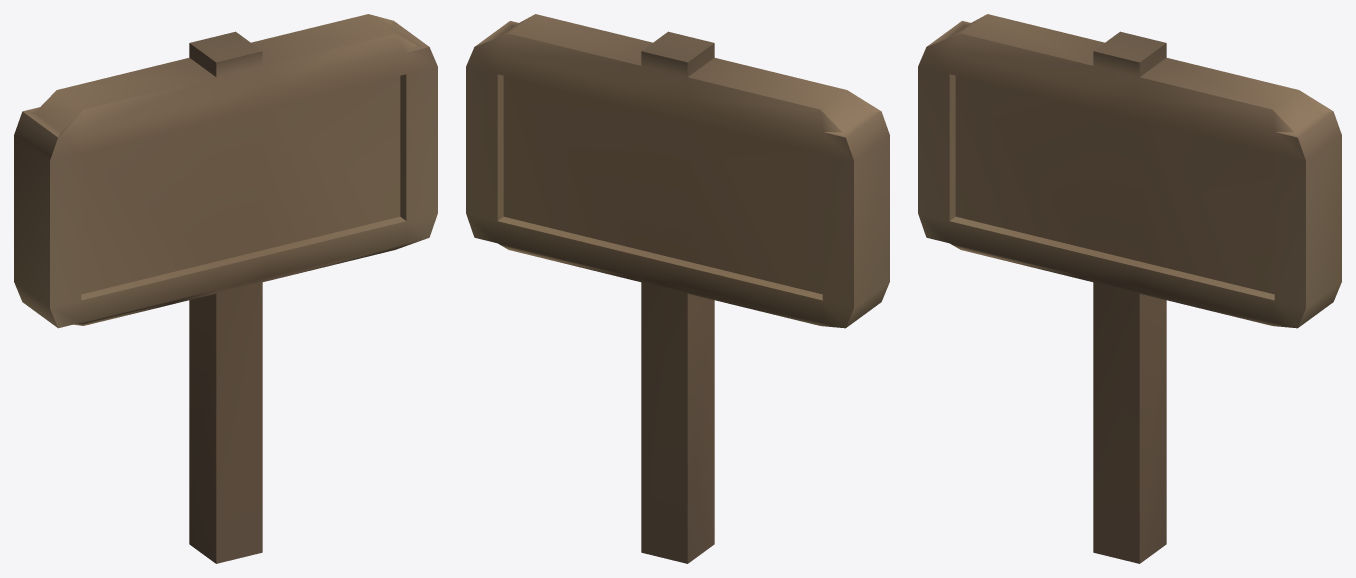
The model's file is sign.glb.
3 renders of one model, left to right at view 1: azimuth 30°, elevation 25°; view 2: azimuth 150°, elevation 25°; view 3: azimuth 330°, elevation 25°, orthographic.
Parts seen in each view (by area): view 1: Object_3; view 2: Object_3; view 3: Object_3.
Boxes of the visible parts, bbox=[...] form: Object_3: bbox=[14, 14, 437, 563]; Object_3: bbox=[466, 14, 889, 563]; Object_3: bbox=[918, 14, 1341, 563].
Bounding box in the file's own units: 3.35 × 4.14 × 0.5352.
